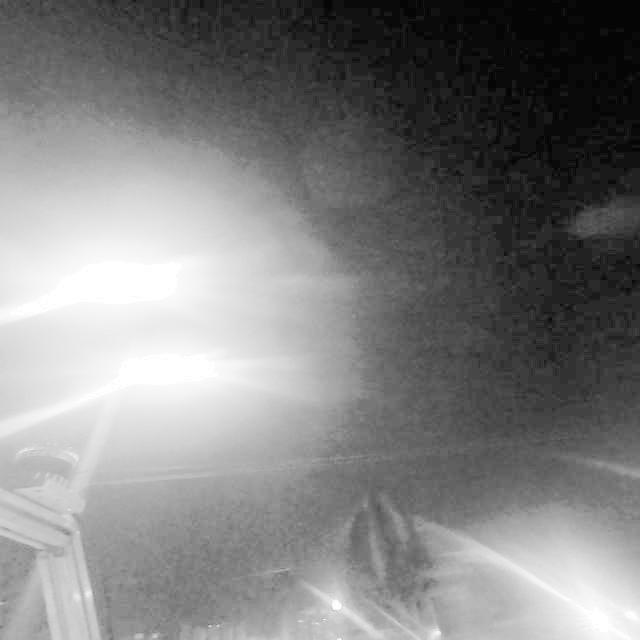Light: (62, 250, 185, 311), (123, 345, 214, 392)
